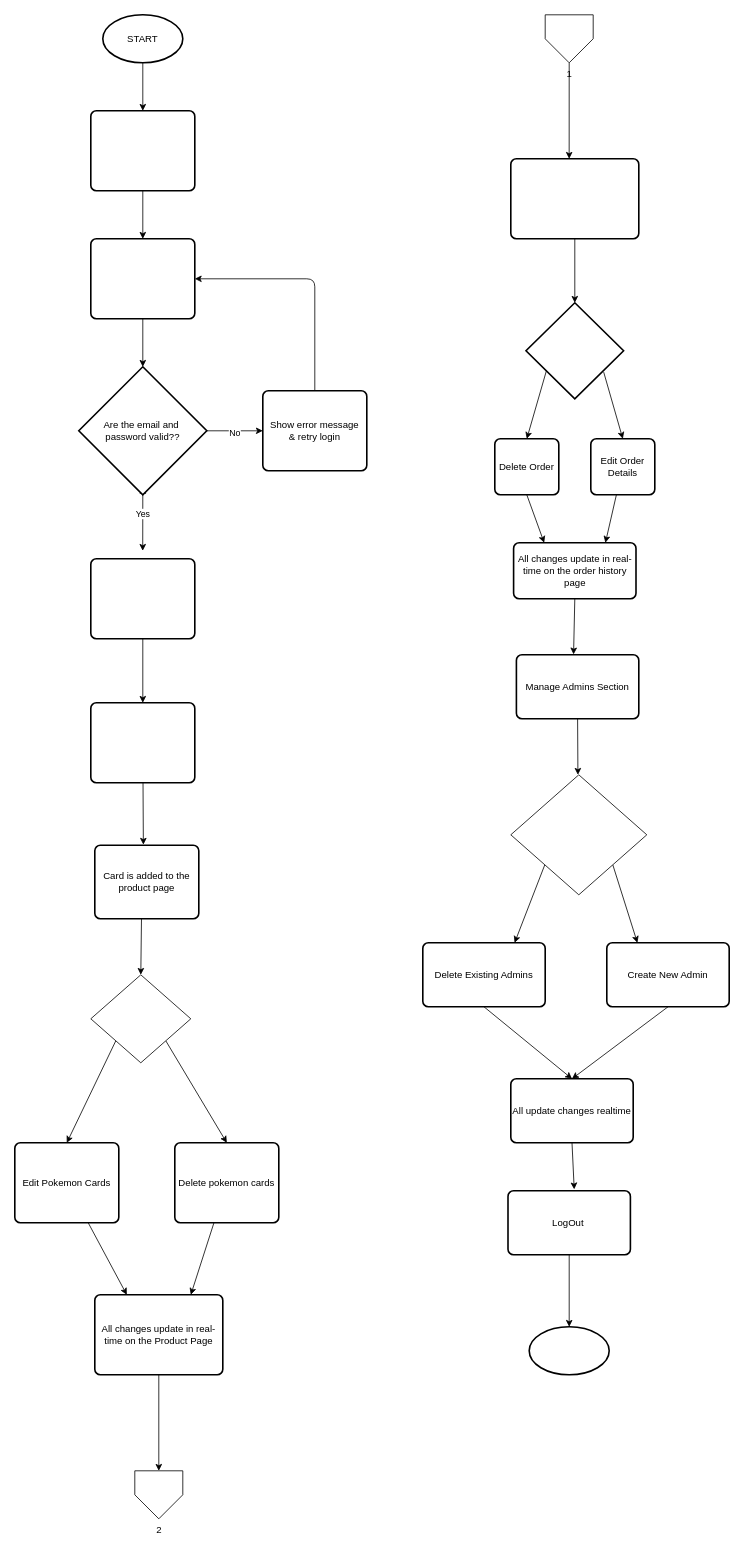
This 743x1549 diagram has some shape labels left out. Each missing label, with the centre of its shape:
Add new card section: point 142,742
Admin manages other admin users: point 578,834
Admin modify customers orders: point 574,350
Click "Admin" Link on Navbar: point 142,150
END: point 569,1350
login Page: point 142,278
Manage orders section: point 574,198
Redirects to Admin page: point 142,598
Update and delete cards: point 140,1018
